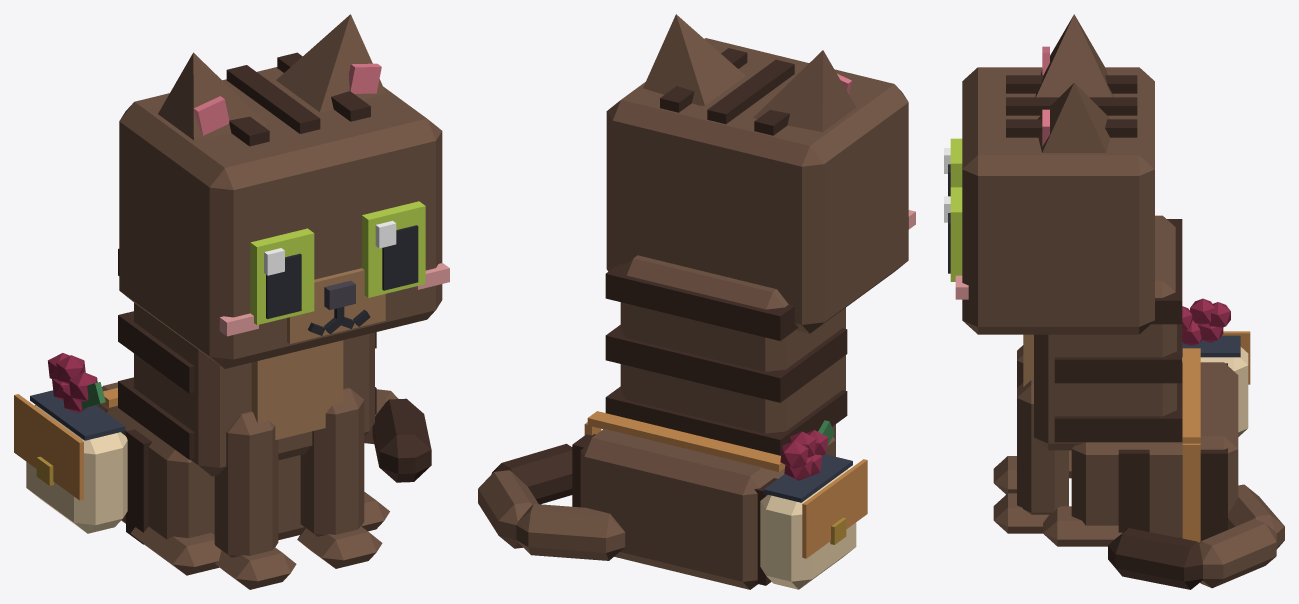
File: CatCafe_Cat_Bramble_Sit.fbx
3 views of the same model, side by side, from view 1: azimuth 30°, elevation 25°; view 2: azimuth 150°, elevation 25°; view 3: azimuth 270°, elevation 25° (orthographic). The views are drawn at different scales.
Parts seen in each view (by area): view 1: CatCafe_Cat_Bramble_Sit_Head, CatCafe_Cat_Bramble_Sit_Body, CatCafe_Cat_Bramble_Sit_LegF2, CatCafe_Cat_Bramble_Sit_LegF1, CatCafe_Cat_Bramble_Sit_EarL, CatCafe_Cat_Bramble_Sit_Eye2, CatCafe_Cat_Bramble_Sit_Eye1, CatCafe_Cat_Bramble_Sit_EarR, CatCafe_Cat_Bramble_Sit_Tail; view 2: CatCafe_Cat_Bramble_Sit_Body, CatCafe_Cat_Bramble_Sit_Head, CatCafe_Cat_Bramble_Sit_Tail, CatCafe_Cat_Bramble_Sit_EarL, CatCafe_Cat_Bramble_Sit_EarR; view 3: CatCafe_Cat_Bramble_Sit_Head, CatCafe_Cat_Bramble_Sit_Body, CatCafe_Cat_Bramble_Sit_Tail, CatCafe_Cat_Bramble_Sit_LegF1, CatCafe_Cat_Bramble_Sit_EarR, CatCafe_Cat_Bramble_Sit_EarL, CatCafe_Cat_Bramble_Sit_Eye1, CatCafe_Cat_Bramble_Sit_LegF2, CatCafe_Cat_Bramble_Sit_Eye2.
Boxes of the visible parts, x1=… form: CatCafe_Cat_Bramble_Sit_Head: x1=119, y1=52, x2=449, y2=368; CatCafe_Cat_Bramble_Sit_Body: x1=14, y1=248, x2=389, y2=575; CatCafe_Cat_Bramble_Sit_LegF2: x1=214, y1=411, x2=296, y2=589; CatCafe_Cat_Bramble_Sit_LegF1: x1=297, y1=387, x2=382, y2=568; CatCafe_Cat_Bramble_Sit_EarL: x1=276, y1=14, x2=385, y2=112; CatCafe_Cat_Bramble_Sit_Eye2: x1=250, y1=228, x2=314, y2=324; CatCafe_Cat_Bramble_Sit_Eye1: x1=362, y1=201, x2=425, y2=297; CatCafe_Cat_Bramble_Sit_EarR: x1=158, y1=52, x2=267, y2=140; CatCafe_Cat_Bramble_Sit_Tail: x1=364, y1=389, x2=431, y2=482; CatCafe_Cat_Bramble_Sit_Body: x1=572, y1=255, x2=867, y2=589; CatCafe_Cat_Bramble_Sit_Head: x1=606, y1=38, x2=915, y2=333; CatCafe_Cat_Bramble_Sit_Tail: x1=478, y1=443, x2=625, y2=560; CatCafe_Cat_Bramble_Sit_EarL: x1=643, y1=14, x2=745, y2=105; CatCafe_Cat_Bramble_Sit_EarR: x1=753, y1=50, x2=855, y2=131; CatCafe_Cat_Bramble_Sit_Head: x1=955, y1=67, x2=1154, y2=334; CatCafe_Cat_Bramble_Sit_Body: x1=1023, y1=215, x2=1250, y2=546; CatCafe_Cat_Bramble_Sit_Tail: x1=1108, y1=484, x2=1284, y2=589; CatCafe_Cat_Bramble_Sit_LegF1: x1=993, y1=380, x2=1068, y2=533; CatCafe_Cat_Bramble_Sit_EarR: x1=1035, y1=14, x2=1112, y2=97; CatCafe_Cat_Bramble_Sit_EarL: x1=1037, y1=82, x2=1110, y2=152; CatCafe_Cat_Bramble_Sit_Eye1: x1=944, y1=187, x2=962, y2=281; CatCafe_Cat_Bramble_Sit_LegF2: x1=993, y1=345, x2=1023, y2=494; CatCafe_Cat_Bramble_Sit_Eye2: x1=944, y1=138, x2=962, y2=196.
Size of the model in its own units: 1.42 by 1.85 by 1.24.
Materials: 1 (1 with a texture image).
